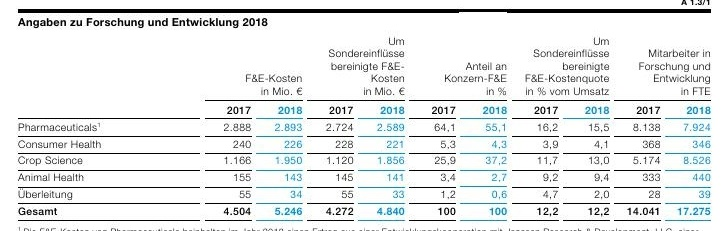table: (0, 0, 728, 231)
